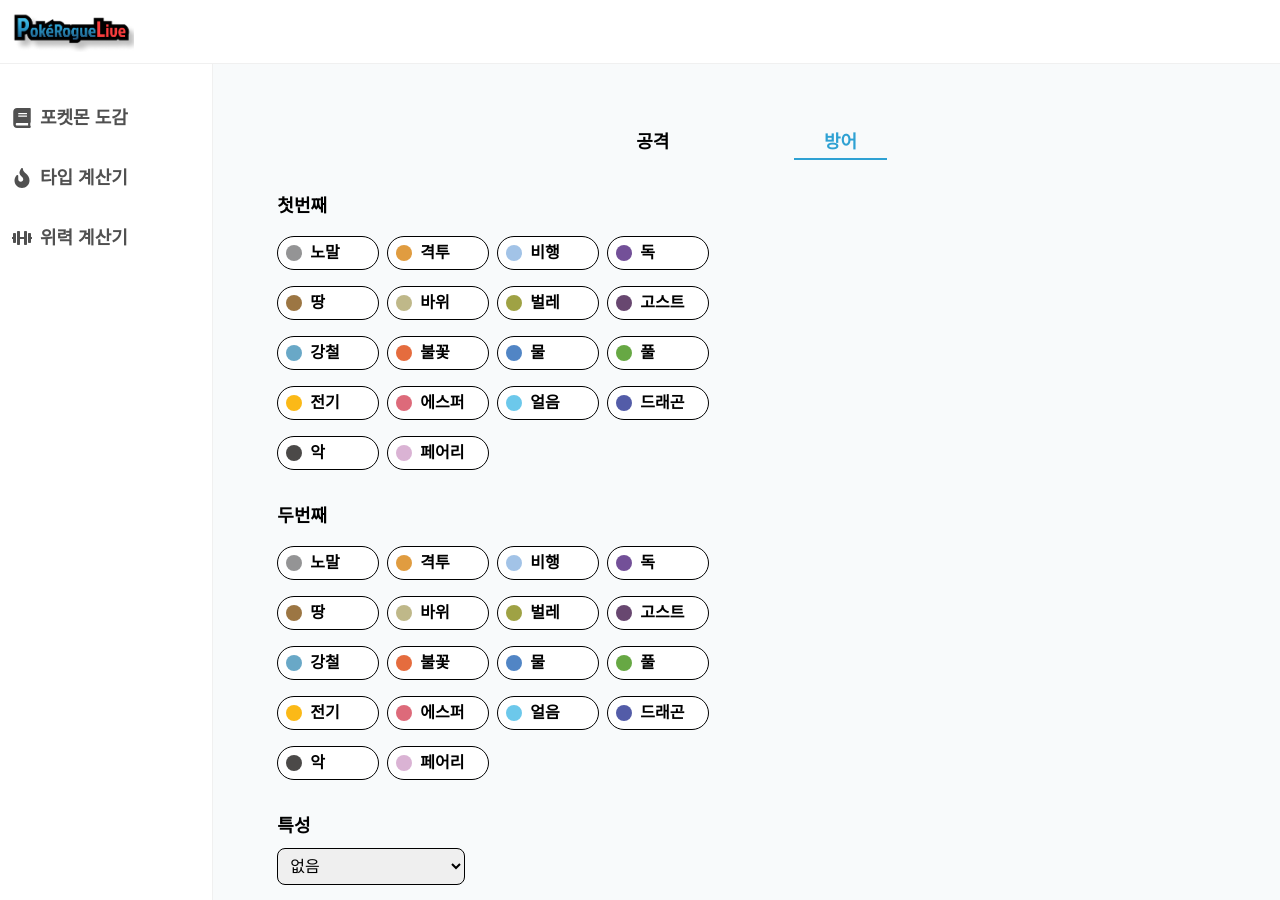
Test: 타입 계산기 페이지 테스트 › 방어모드 선택 옵션에서 "없음"을 선택하면 해당 옵션을 제외하고 새로운 받은 피해 맵을 렌더링합니다.
Click the button "노말" below "첫번째". click: {"x": 328, "y": 253}
box: [277,236,379,270]
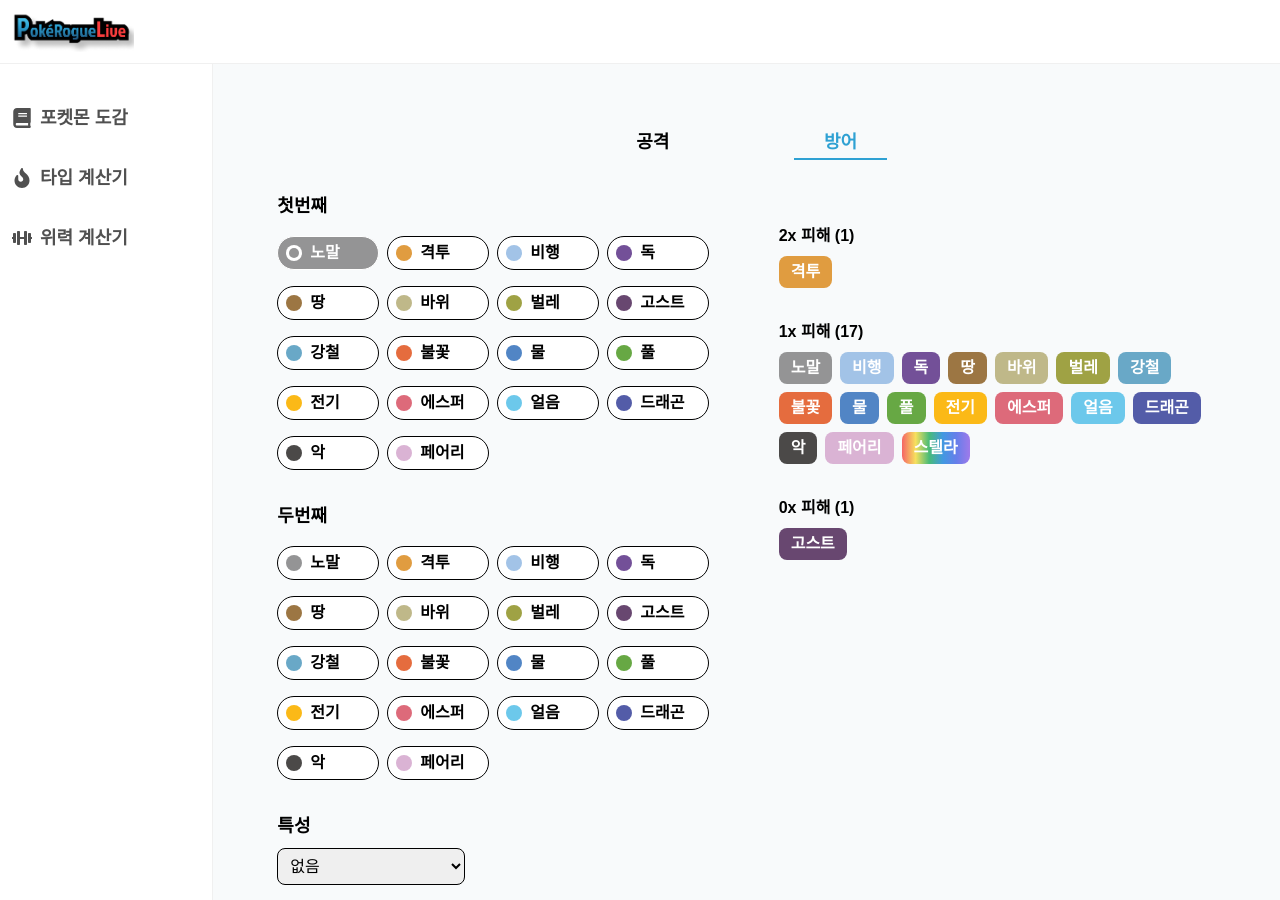
Click the button "격투" below "두번째". click: {"x": 438, "y": 563}
box: [387,546,489,580]
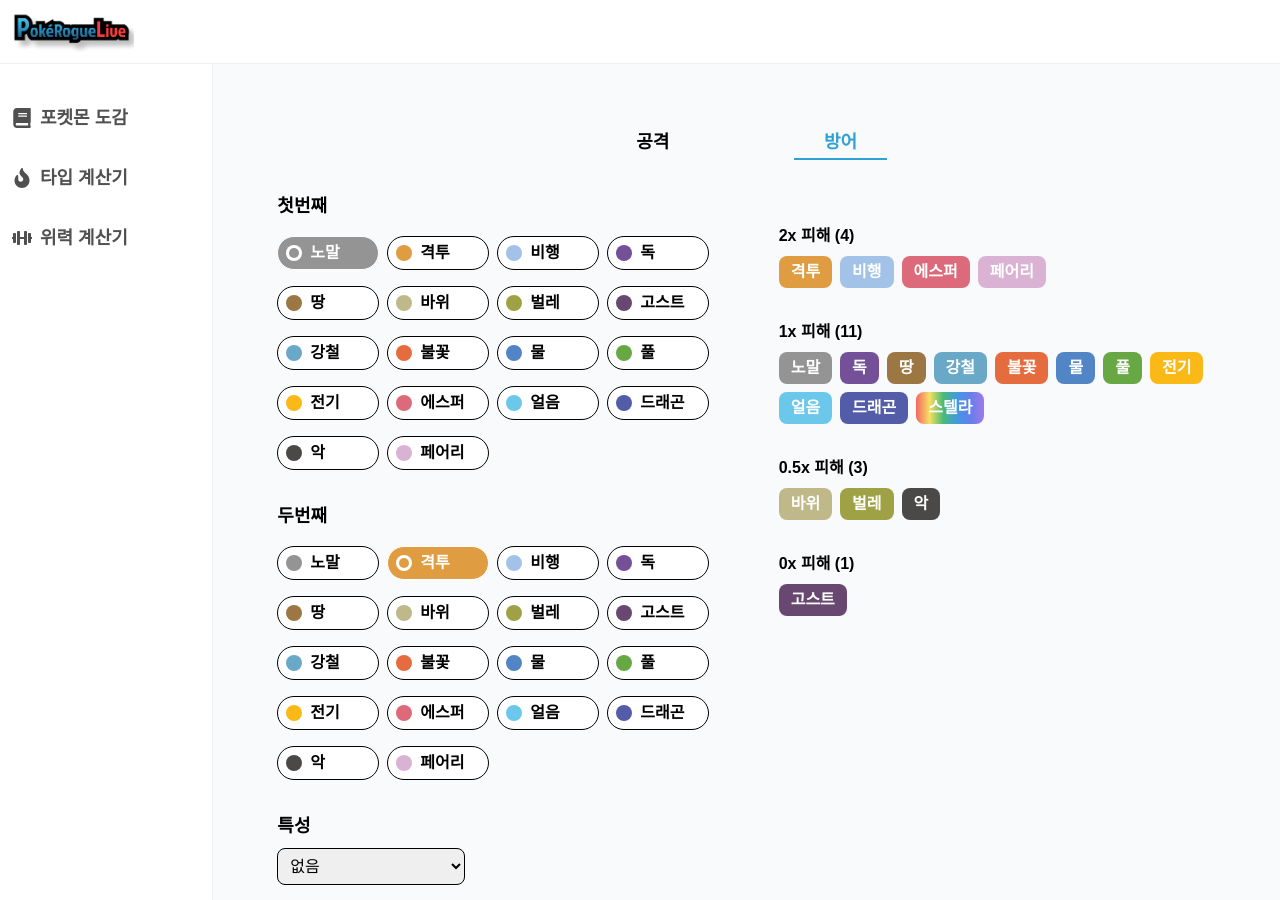
Select "건조피부" in the dropdown named "특성". click: {"x": 371, "y": 867}
box: [277,848,465,885]
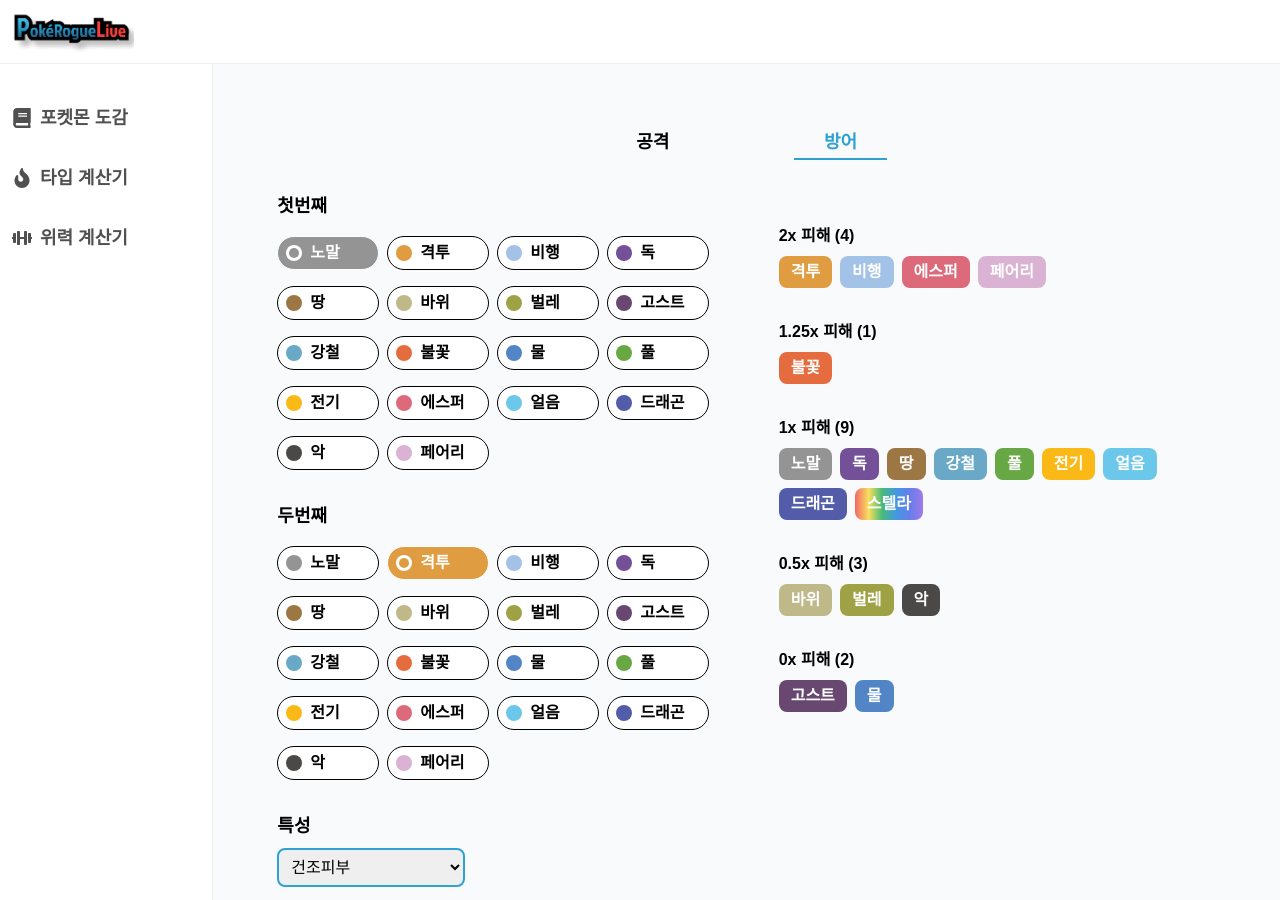
Result: the text with class "type-defend-result" reads "1x 피해 (9)" at [779,419,855,436]
Select "없음" in the dropdown named "특성". click: {"x": 371, "y": 868}
box: [277,848,465,887]
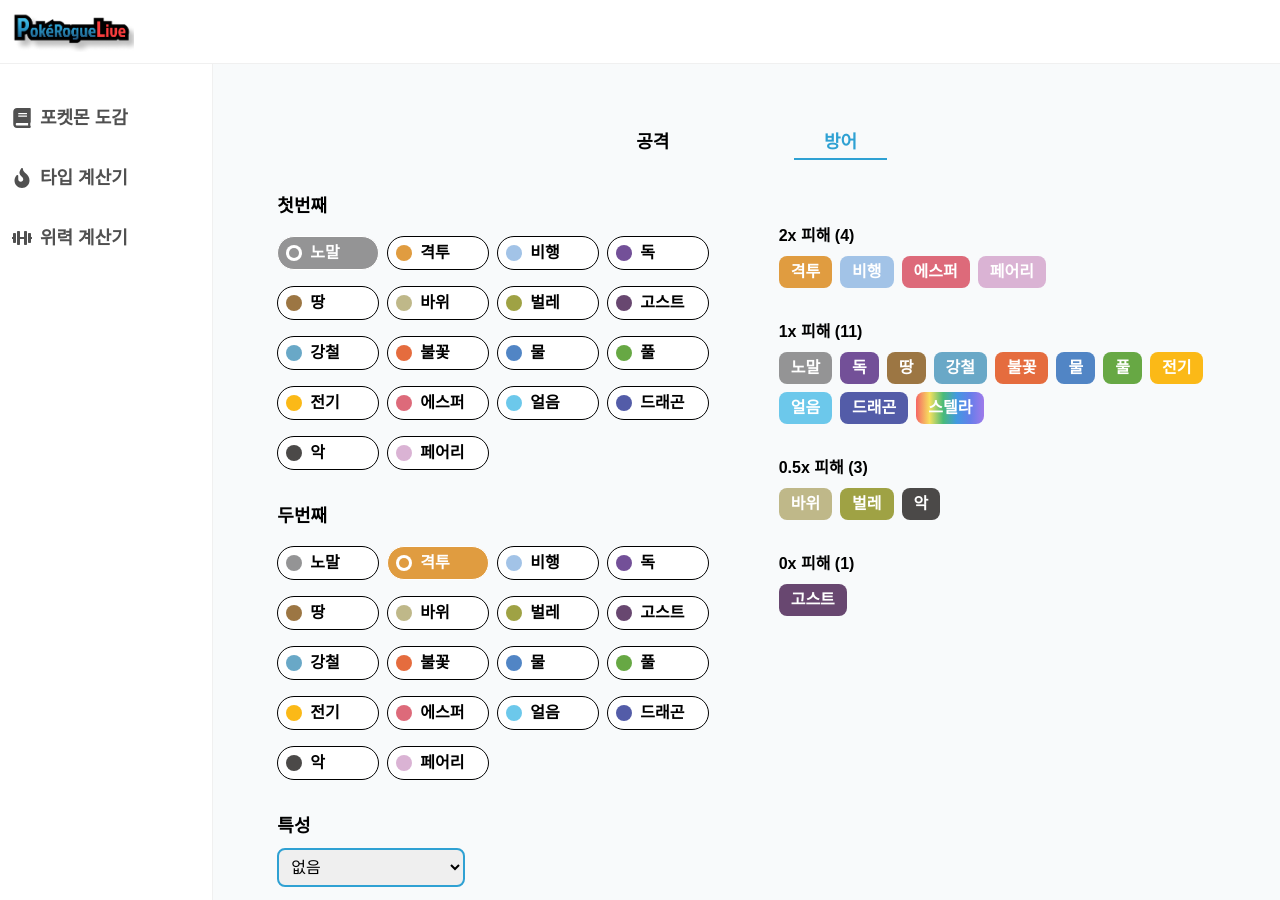
Result: the text with class "type-defend-result" reads "1x 피해 (11)" at [779,323,863,340]
